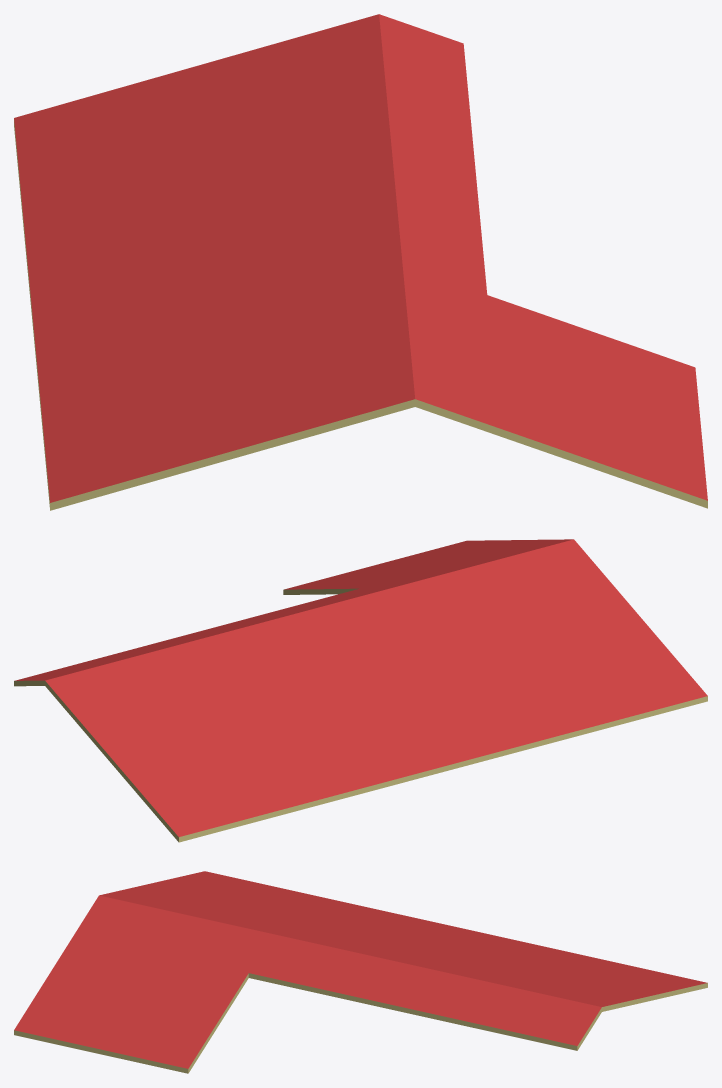
The picture shows the model from 3 angles, top to bottom: view 1: azimuth 30°, elevation 25°; view 2: azimuth 150°, elevation 25°; view 3: azimuth 270°, elevation 25°; orthographic projection. The views are drawn at different scales.
Size of the model in its own units: 9.53 by 12.9 by 1.46.
